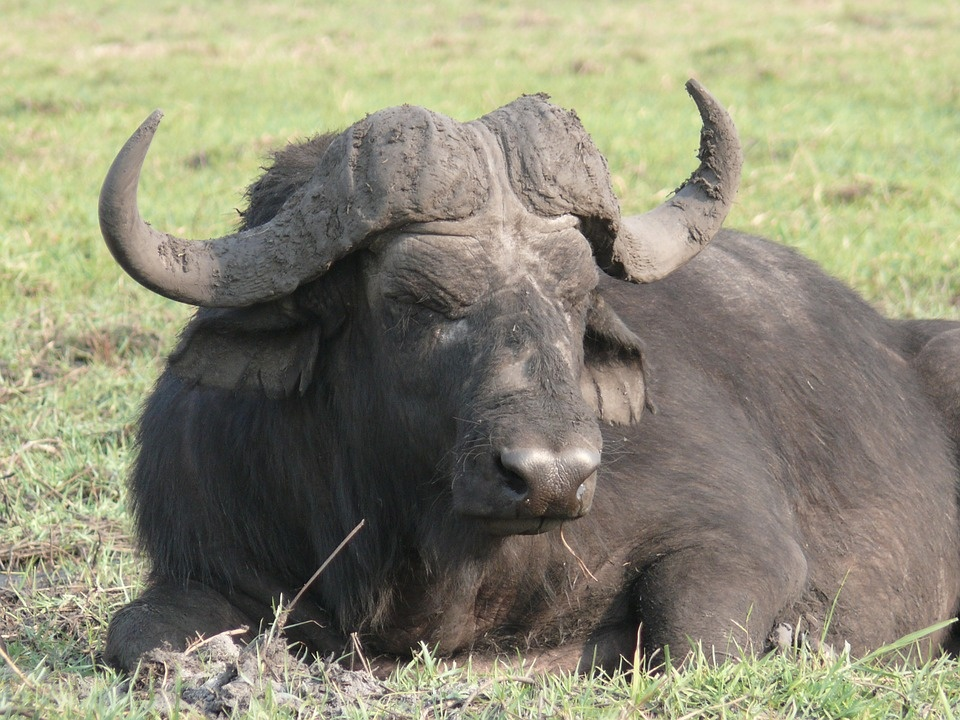buffalo: (95, 84, 956, 658)
